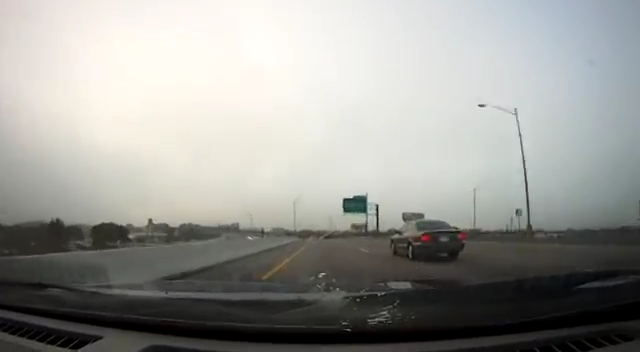car: (387, 219, 465, 261)
